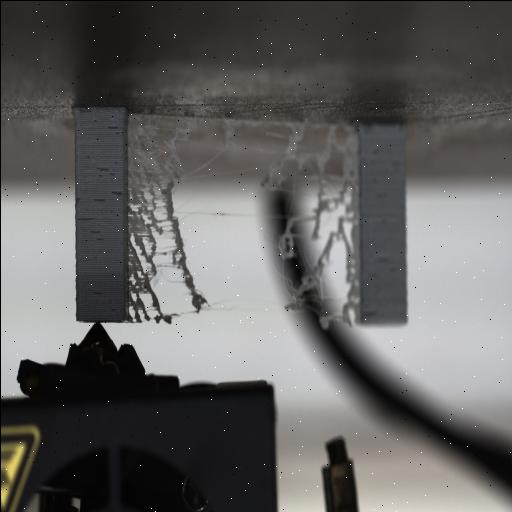stringing: (120, 117, 240, 323), (261, 117, 361, 328)
